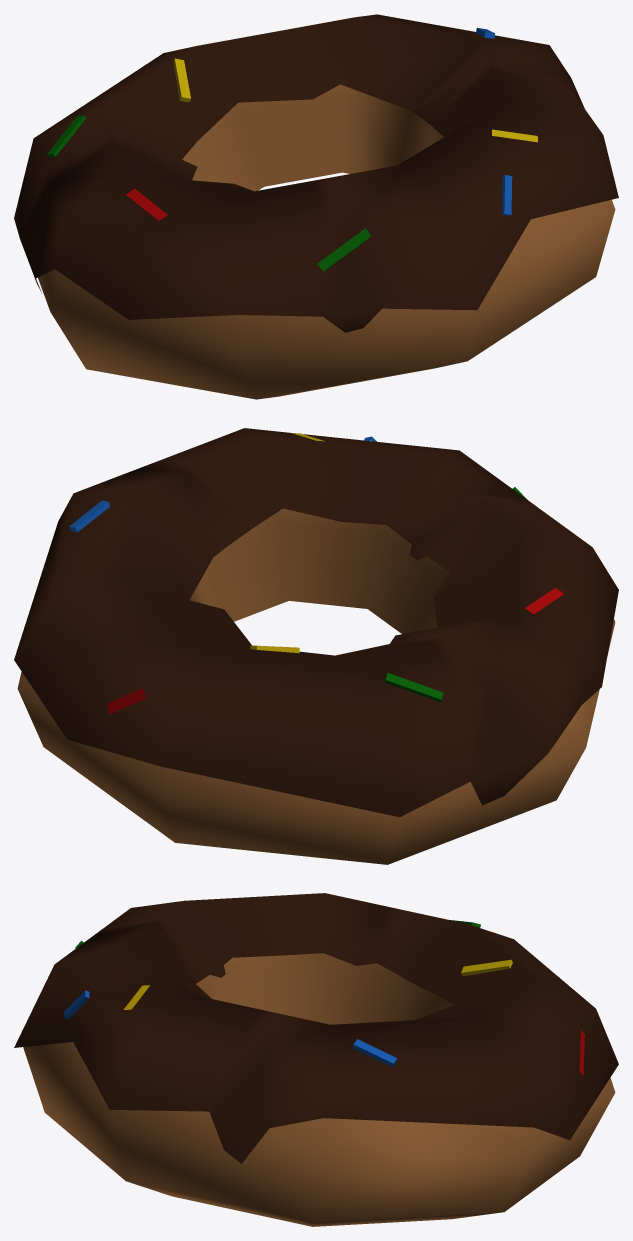
File: hat_donut.glb
The picture shows the model from 3 angles, top to bottom: view 1: azimuth 30°, elevation 25°; view 2: azimuth 150°, elevation 25°; view 3: azimuth 270°, elevation 25°; orthographic projection. The views are drawn at different scales.
Parts seen in each view (by area): view 1: hat_donut; view 2: hat_donut; view 3: hat_donut.
Boxes of the visible parts, bbox=[...] form: hat_donut: bbox=[14, 14, 618, 399]; hat_donut: bbox=[14, 428, 618, 864]; hat_donut: bbox=[14, 893, 618, 1226].
Bounding box in the file's own units: 0.3985 × 0.181 × 0.4068.
